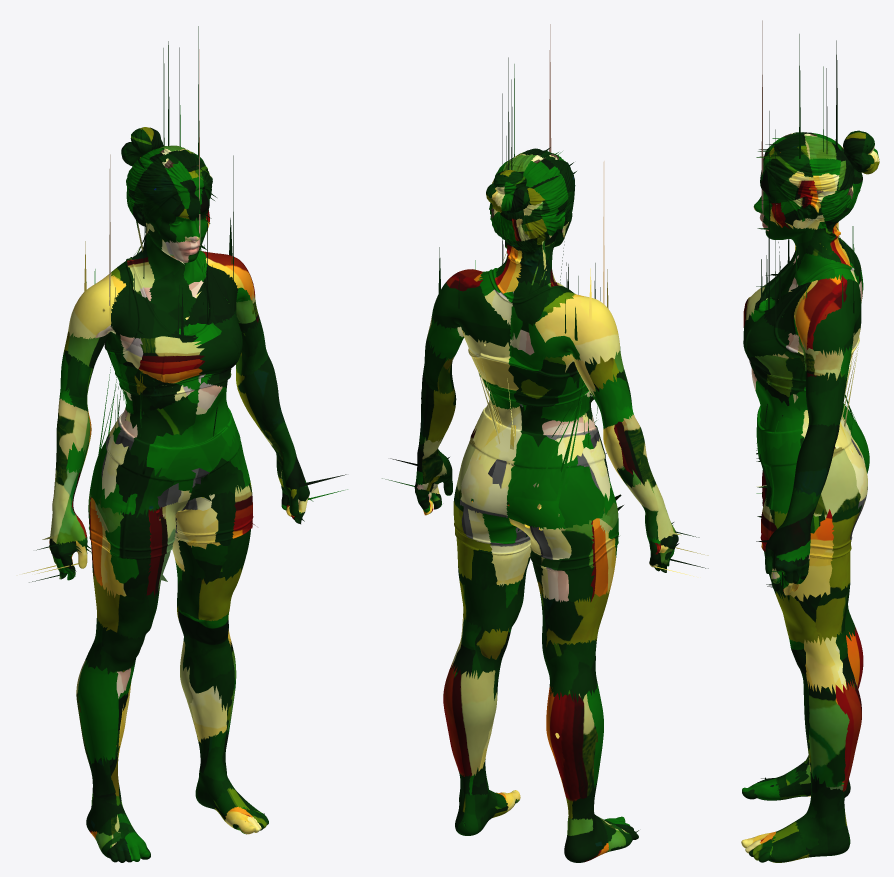
The model's file is woman-base-character.glb.
The picture shows the model from 3 angles, left to right: view 1: azimuth 30°, elevation 25°; view 2: azimuth 150°, elevation 25°; view 3: azimuth 270°, elevation 25°; orthographic projection. The views are drawn at different scales.
Visible parts, largest first — view 1: woman-base-character; view 2: woman-base-character; view 3: woman-base-character.
Part boxes in pixels (left/top/right/bottom): woman-base-character: left=23, top=26, right=347, bottom=862; woman-base-character: left=382, top=24, right=708, bottom=862; woman-base-character: left=741, top=20, right=879, bottom=862.
Bounding box in the file's own units: 0.8476 × 1.98 × 0.3025.
1 material, 1 textured.
